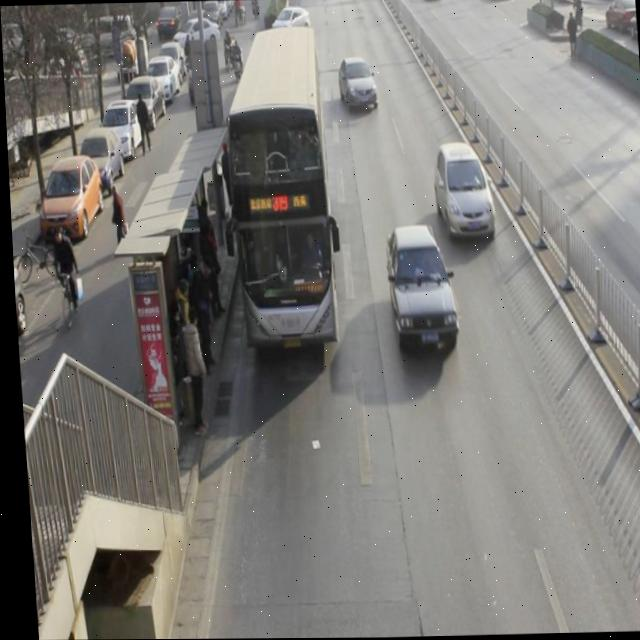car: (383, 231, 455, 354), (432, 147, 494, 243), (335, 58, 378, 113), (277, 8, 312, 39)
van: (218, 24, 335, 342)
